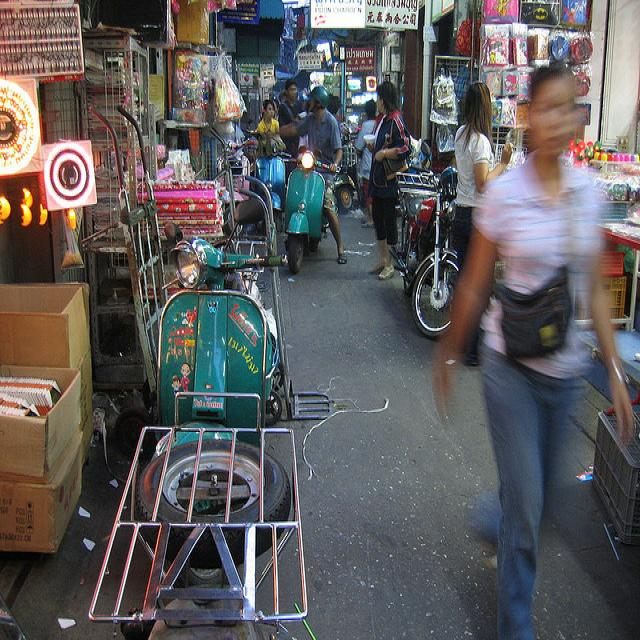motor: (390, 184, 459, 339), (282, 152, 334, 269)
